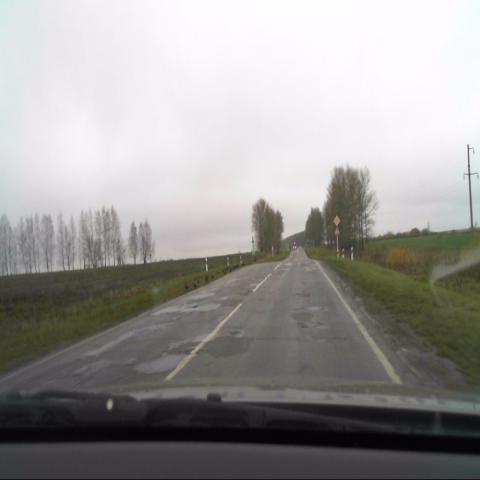2_1: (332, 215, 340, 227)
